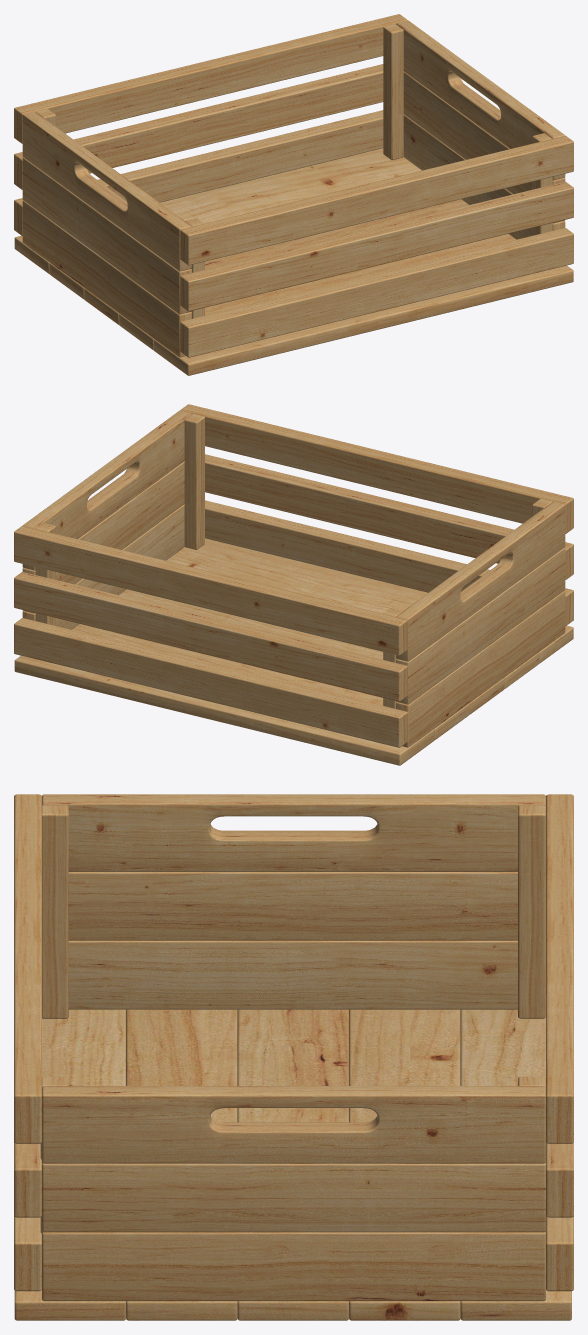
The picture shows the model from 3 angles, top to bottom: view 1: azimuth 30°, elevation 25°; view 2: azimuth 150°, elevation 25°; view 3: azimuth 270°, elevation 25°; orthographic projection. The views are drawn at different scales.
Visible parts, largest first — view 1: Plane.002, Plane.001, Wooden Crate, Plane.003; view 2: Plane.002, Plane.001, Wooden Crate, Plane.003; view 3: Plane.001, Wooden Crate, Plane.002, Plane.003.
Part boxes in pixels (<box>): Plane.002: <box>14,14,573,357</box>; Plane.001: <box>22,20,565,357</box>; Wooden Crate: <box>14,148,573,375</box>; Plane.003: <box>36,24,552,318</box>; Plane.002: <box>14,404,573,747</box>; Plane.001: <box>22,410,565,747</box>; Wooden Crate: <box>14,538,573,765</box>; Plane.003: <box>35,414,552,708</box>; Plane.001: <box>42,794,545,1301</box>; Wooden Crate: <box>14,1009,571,1320</box>; Plane.002: <box>14,794,573,1291</box>; Plane.003: <box>40,805,545,1233</box>.
Size of the model in its own units: 0.204 by 0.0713 by 0.16.
Materials: 1 (1 with a texture image).
